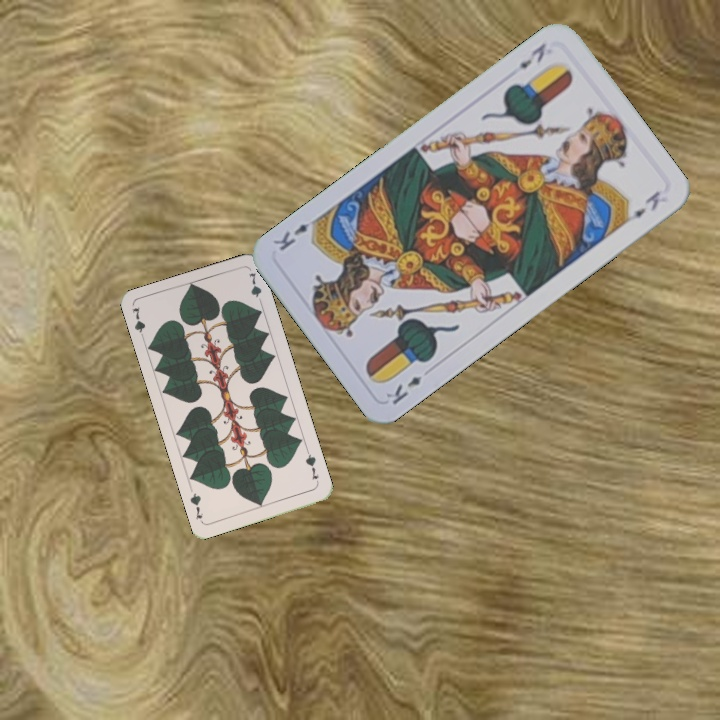EK: (381, 371, 425, 408), (515, 38, 549, 72)
G7: (128, 303, 148, 344), (301, 447, 321, 482)
